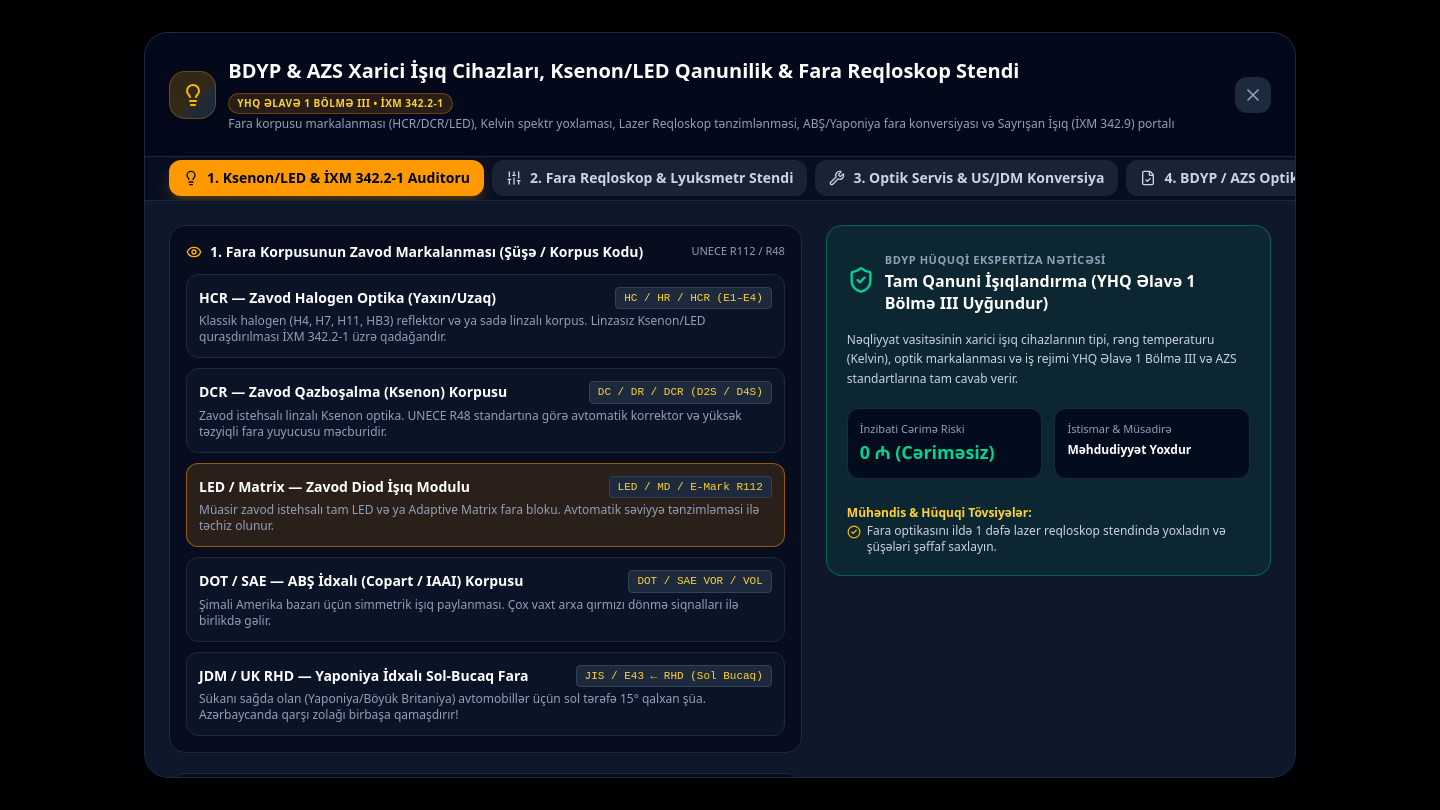
Test: HeadlightComplianceModal component › renders Xenon/LED auditor tab and detects illegal HID Xenon or >6000K bulbs
Expected: the element with test id "headlight-audit-verdict-card" is shown, [826,224,1271,576]
Expected: the text with test id "headlight-fine-amount" shows "0 ₼", [860,440,995,464]
Switch housing to HCR Halogen and install illegal HID Xenon kit
Click the button with test id "housing-option-HCR_HALOGEN".
click(485, 316)  # box [186,274,785,358]
(page scrolled)
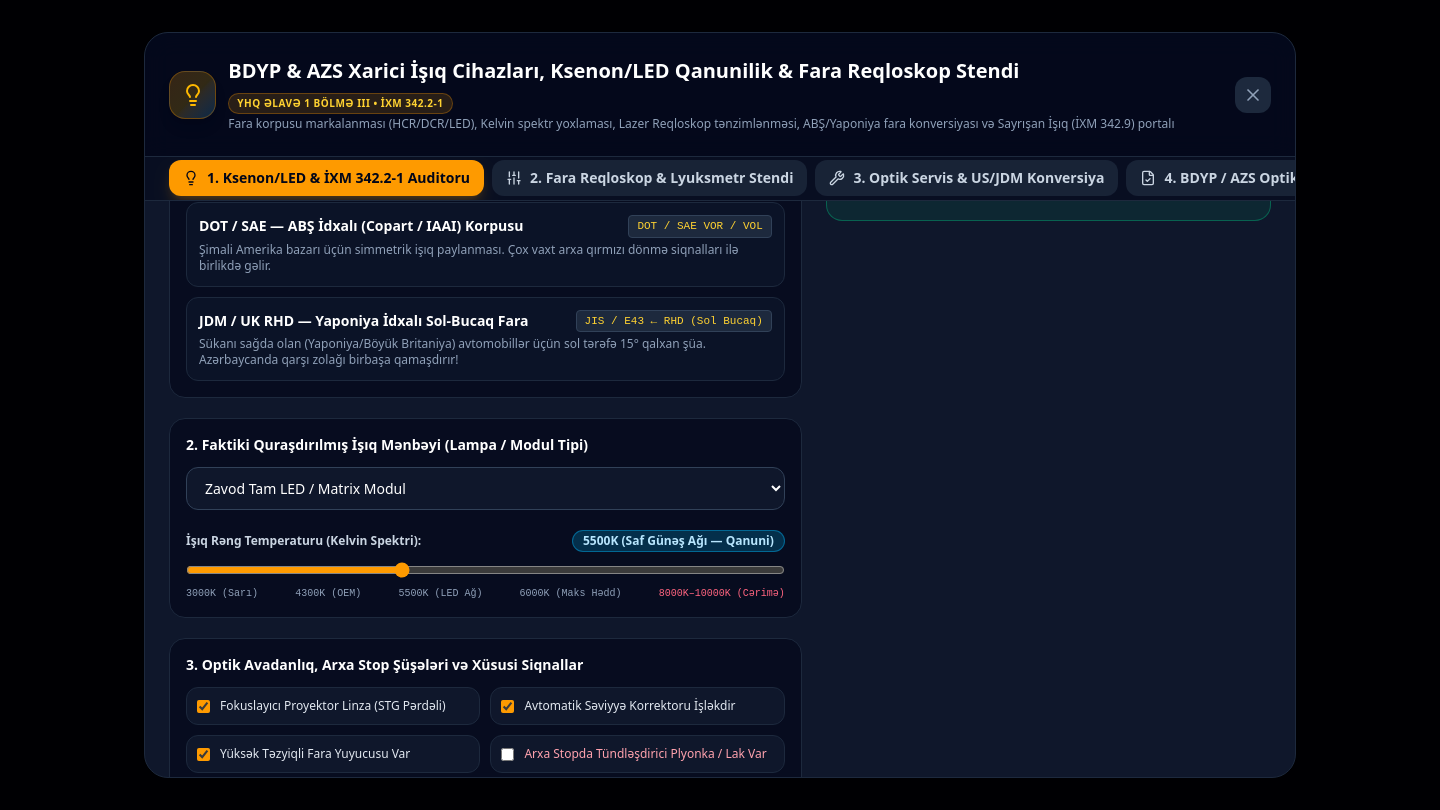
Select "Sonradan Quraşdırılan Ksenon HID Kit (Kustar)" in the dropdown with test id "installed-bulb-select" at (485, 488), box [186,467,785,510]
(page scrolled)
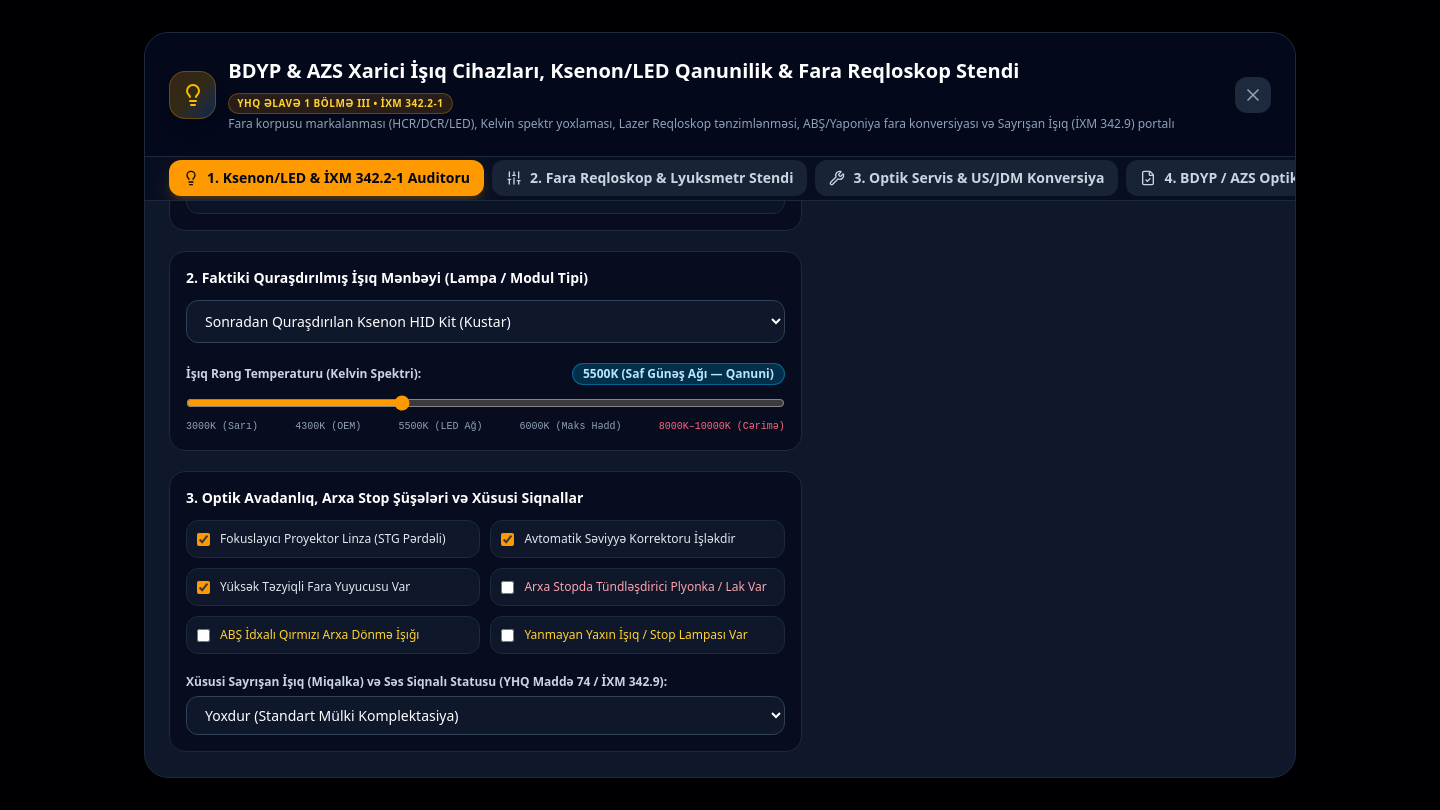
Select "Qadağan Olunmuş Qırmızı/Göy Stroboskop \"Miqalka\" və ya Çoxtonlu Siqnal (İXM 342." in the dropdown with test id "special-beacon-select" at (485, 716), box [186,696,785,735]
(page scrolled)
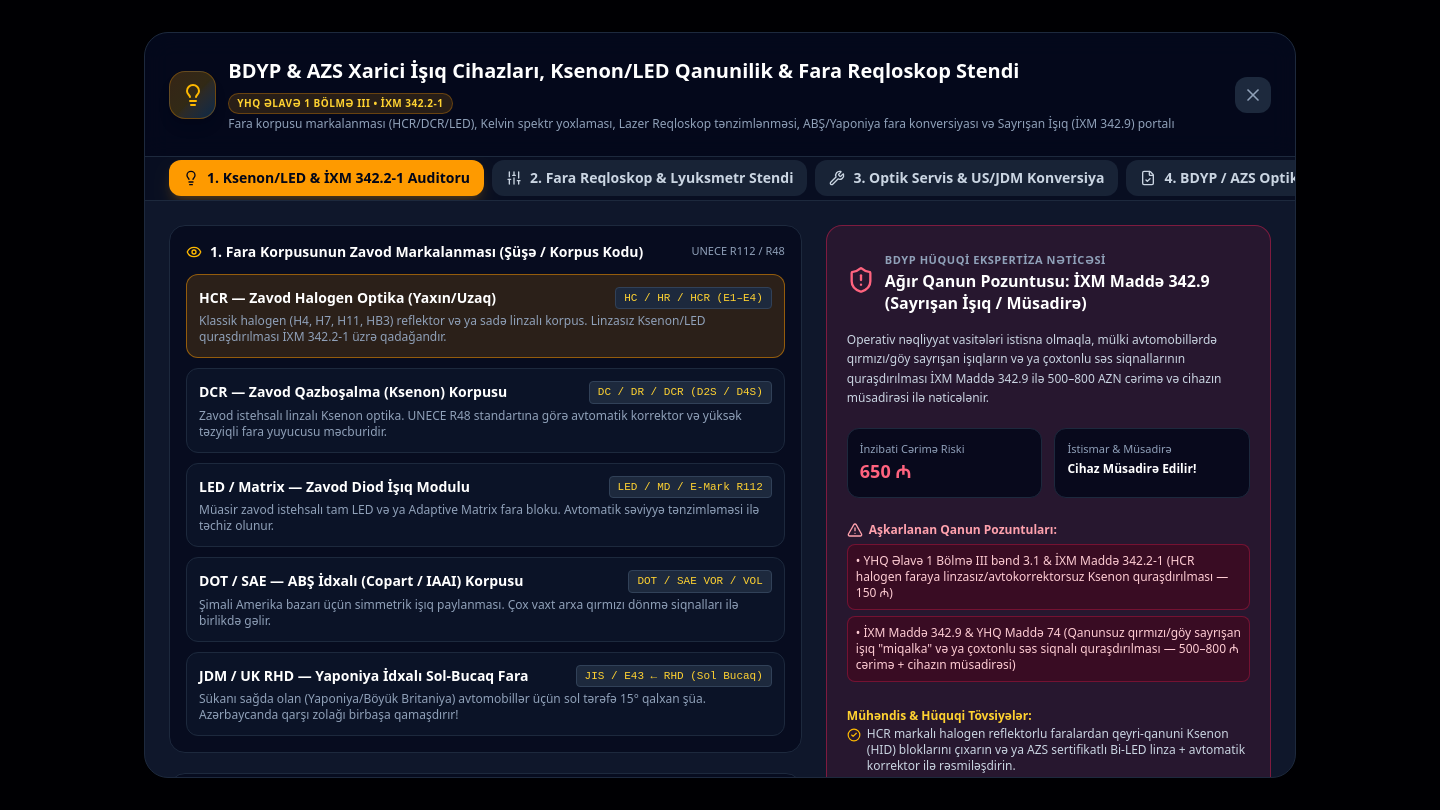
Expected: the text with test id "headlight-fine-amount" reads "650 ₼", [860,459,911,483]
